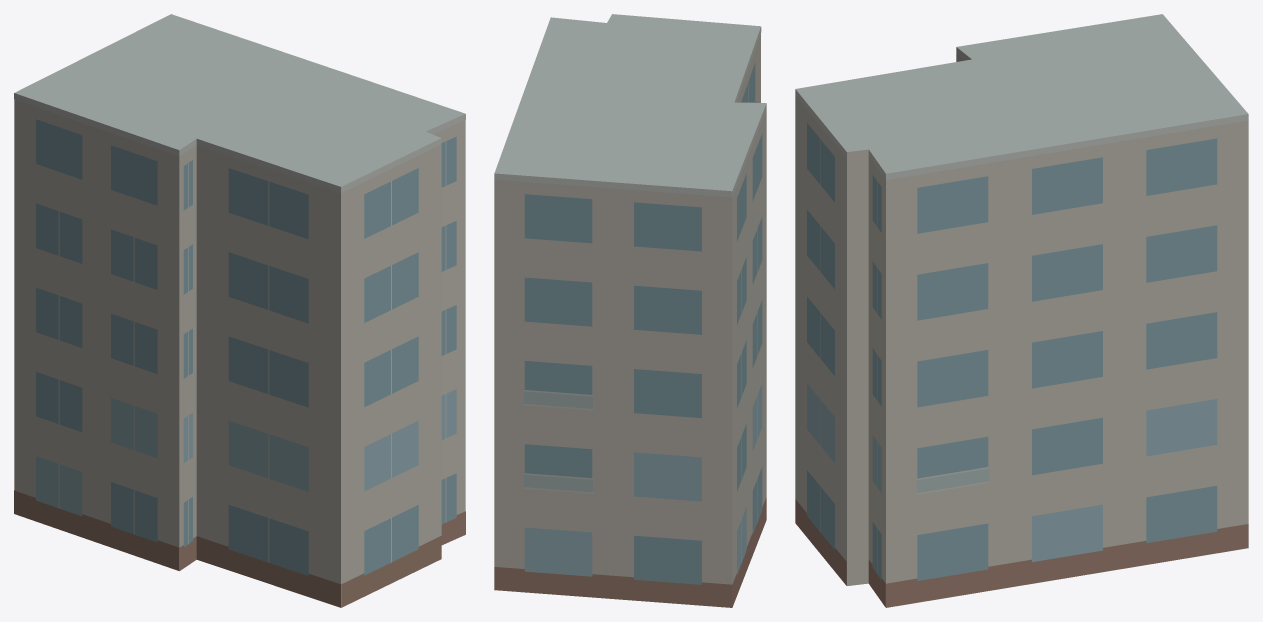
The model's file is survey-upis-32851361.glb.
3 renders of one model, left to right at view 1: azimuth 30°, elevation 25°; view 2: azimuth 150°, elevation 25°; view 3: azimuth 270°, elevation 25°, orthographic. The views are drawn at different scales.
Parts seen in each view (by area): view 1: survey-upis-32851361.tmp; view 2: survey-upis-32851361.tmp; view 3: survey-upis-32851361.tmp.
Boxes of the visible parts, x1,y1,x2,y2 form: survey-upis-32851361.tmp: (14, 14, 465, 607); survey-upis-32851361.tmp: (494, 14, 766, 607); survey-upis-32851361.tmp: (795, 14, 1248, 607).
Size of the model in its own units: 13.11 by 16.6 by 15.72.
